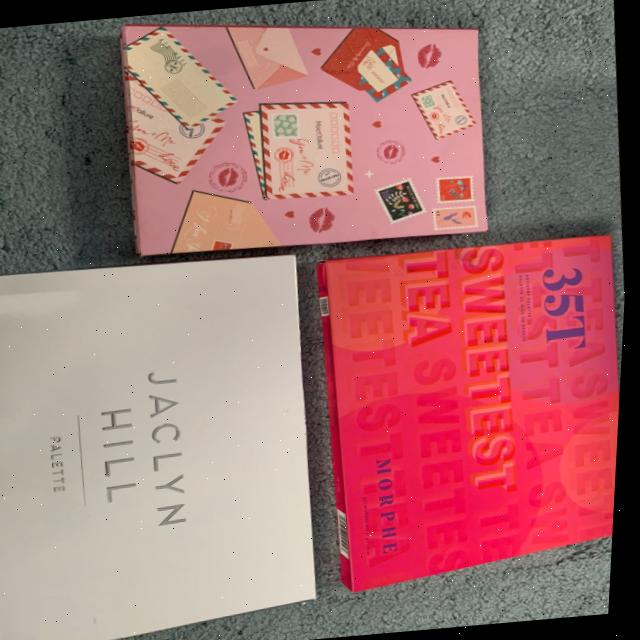makeup: (0, 229, 348, 640), (290, 222, 631, 595), (91, 0, 504, 267)
